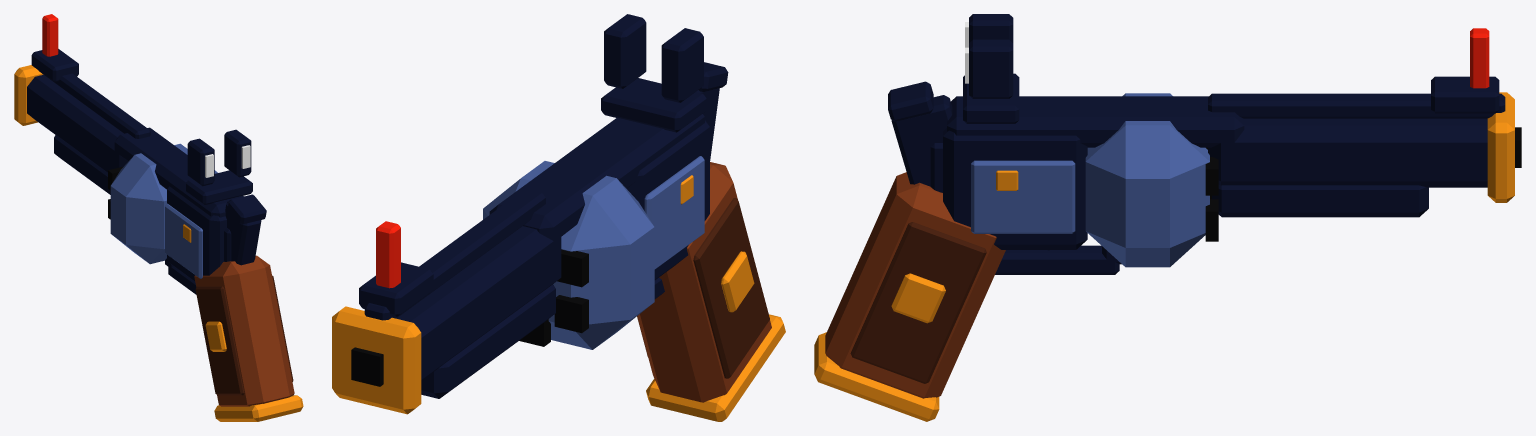
Rendered from Python_Revolver.obj.
3 renders of one model, left to right at view 1: azimuth 30°, elevation 25°; view 2: azimuth 150°, elevation 25°; view 3: azimuth 270°, elevation 25°, orthographic. The views are drawn at different scales.
Parts seen in each view (by area): view 1: Python_Revolver; view 2: Python_Revolver; view 3: Python_Revolver.
Part boxes in pixels (<box>): Python_Revolver: <box>14,14,303,421</box>; Python_Revolver: <box>332,14,785,421</box>; Python_Revolver: <box>814,14,1521,421</box>.
Size of the model in its own units: 1.95 by 5.17 by 8.8.
